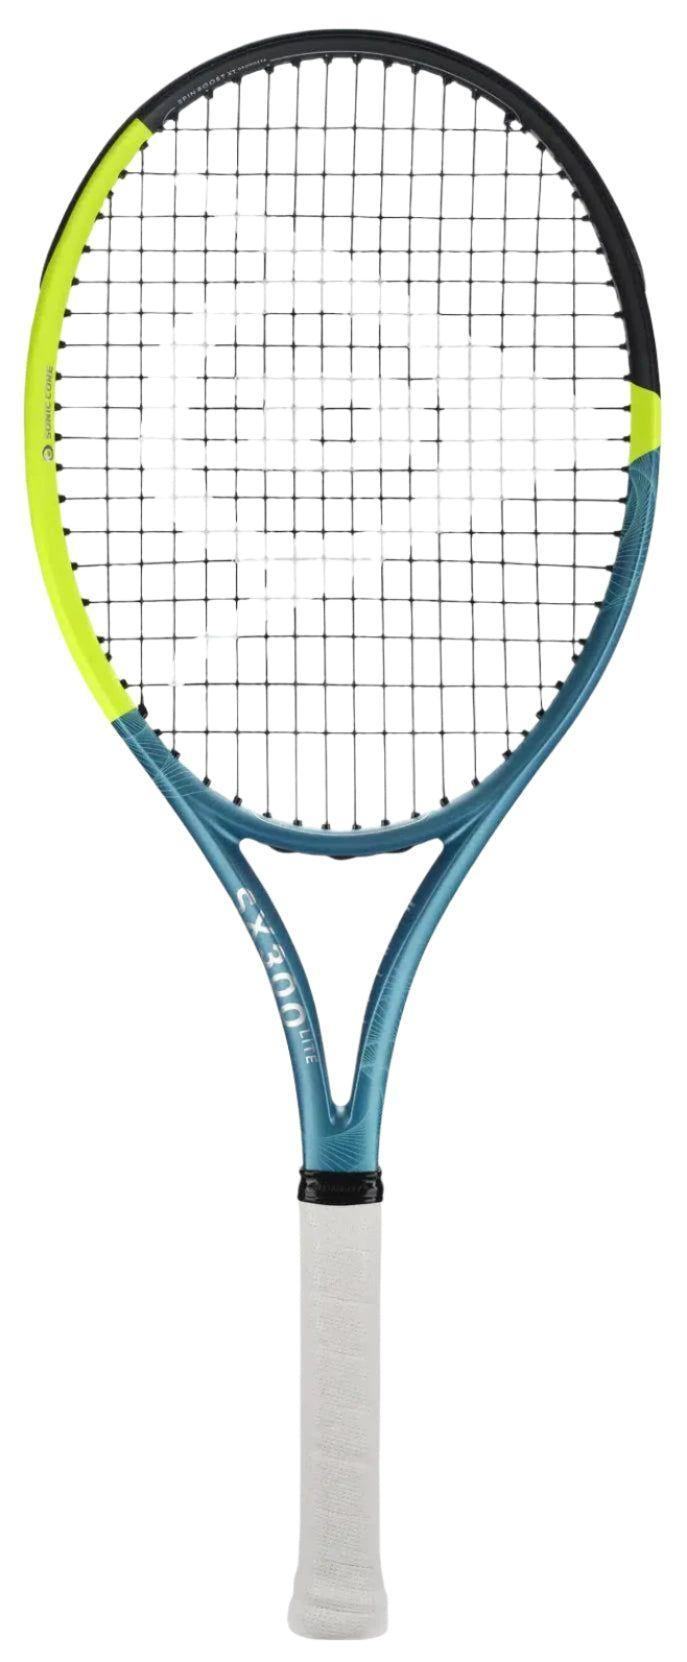Tennis-Racket: (21, 47, 668, 1611)
